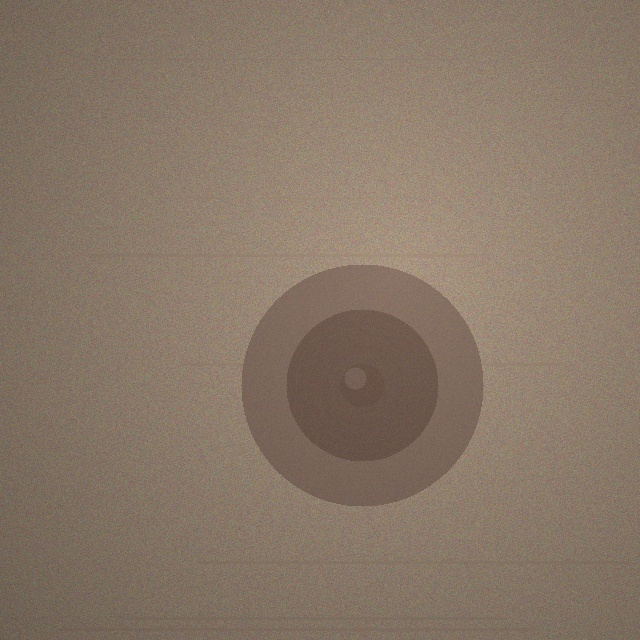good: (241, 264, 483, 506)
